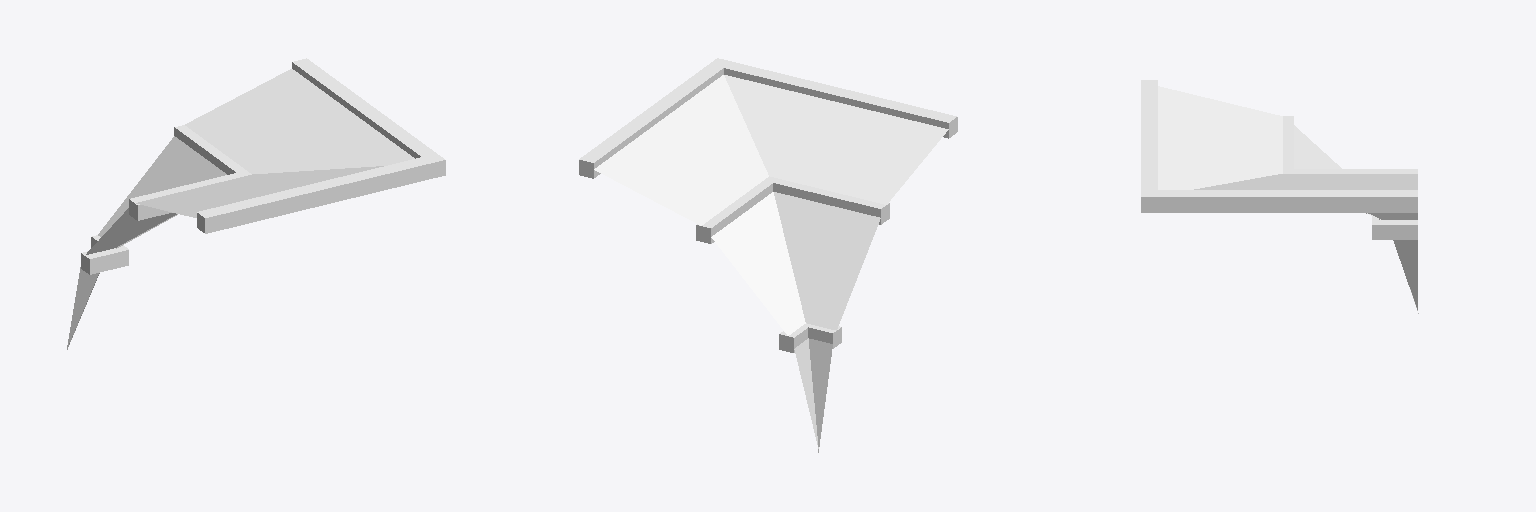
File: mt_awning_basket_inner.obj
3 renders of one model, left to right at view 1: azimuth 30°, elevation 25°; view 2: azimuth 150°, elevation 25°; view 3: azimuth 270°, elevation 25°, orthographic.
Parts seen in each view (by area): view 1: cube.000, cube.008, cube.006, cube, cube.004, cube.005, cube.003, cube.010, cube.009, cube.007; view 2: cube.006, cube.000, cube.005, cube, cube.008, cube.004, cube.010, cube.003, cube.007, cube.001, cube.009; view 3: cube.006, cube.004, cube.000, cube.008, cube.005, cube.001, cube.010, cube.003, cube.002.
Boxes of the visible parts, x1=… form: cube.000: x1=185, y1=69, x2=414, y2=173; cube.008: x1=197, y1=154, x2=445, y2=233; cube.006: x1=136, y1=166, x2=383, y2=217; cube: x1=98, y1=136, x2=226, y2=248; cube.004: x1=292, y1=58, x2=436, y2=158; cube.005: x1=86, y1=208, x2=176, y2=254; cube.003: x1=174, y1=125, x2=245, y2=174; cube.010: x1=129, y1=170, x2=251, y2=220; cube.009: x1=81, y1=245, x2=128, y2=274; cube.007: x1=67, y1=267, x2=98, y2=349; cube.006: x1=724, y1=75, x2=948, y2=204; cube.000: x1=594, y1=75, x2=768, y2=225; cube.005: x1=774, y1=192, x2=880, y2=330; cube: x1=711, y1=192, x2=805, y2=335; cube.008: x1=709, y1=58, x2=957, y2=138; cube.004: x1=579, y1=65, x2=723, y2=178; cube.010: x1=764, y1=176, x2=889, y2=224; cube.003: x1=696, y1=181, x2=772, y2=243; cube.007: x1=809, y1=339, x2=832, y2=452; cube.001: x1=794, y1=338, x2=818, y2=448; cube.009: x1=803, y1=323, x2=841, y2=348; cube.006: x1=1158, y1=86, x2=1282, y2=189; cube.004: x1=1158, y1=190, x2=1417, y2=212; cube.000: x1=1194, y1=174, x2=1417, y2=189; cube.008: x1=1141, y1=80, x2=1157, y2=212; cube.005: x1=1294, y1=125, x2=1382, y2=220; cube.001: x1=1393, y1=240, x2=1417, y2=309; cube.010: x1=1283, y1=116, x2=1293, y2=173; cube.003: x1=1294, y1=169, x2=1417, y2=173; cube.002: x1=1390, y1=220, x2=1417, y2=239.
Bounding box in the file's own units: 1 × 0.9371 × 1.